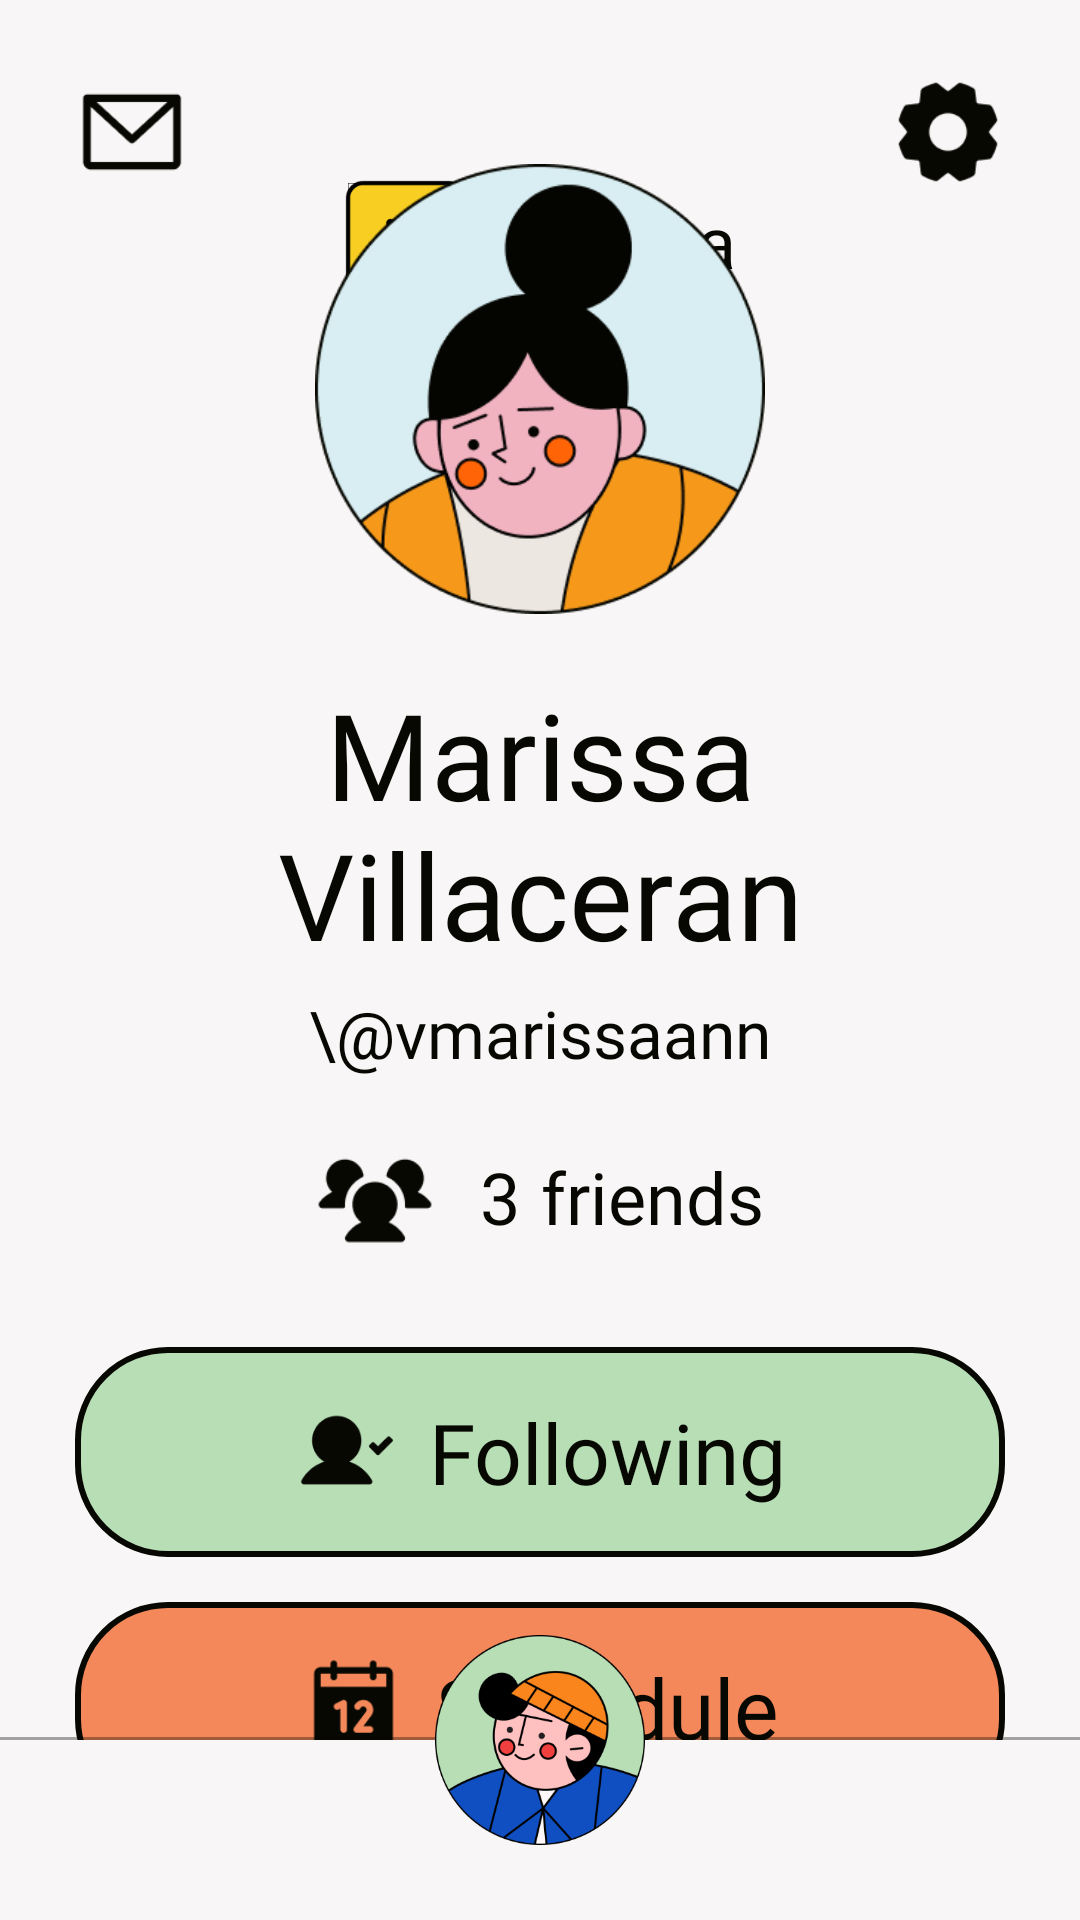

Locate icon controls on the screen. Image size 1080w x 1920h, boxes as (x1, y1, x2, y2).
calendar: (301, 1660, 406, 1759)
friend: (301, 1415, 393, 1485)
inbox: (82, 93, 182, 171)
settings: (898, 82, 998, 182)
